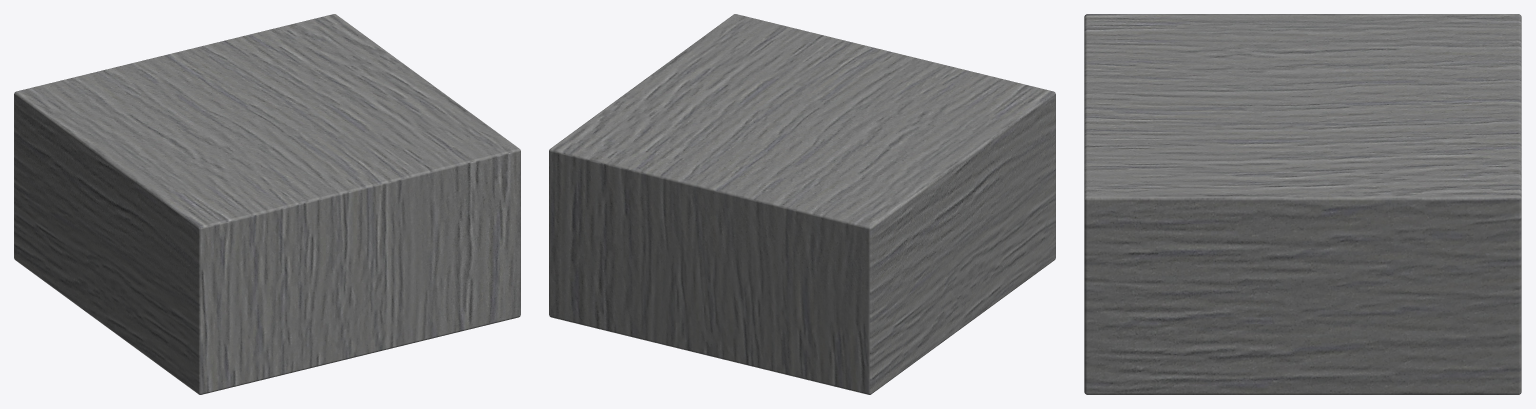
The model's file is PlatformBlock001.obj.
The picture shows the model from 3 angles, left to right: view 1: azimuth 30°, elevation 25°; view 2: azimuth 150°, elevation 25°; view 3: azimuth 270°, elevation 25°; orthographic projection. The views are drawn at different scales.
Parts seen in each view (by area): view 1: pCube1; view 2: pCube1; view 3: pCube1.
Part boxes in pixels (x1,y1,x2,y2): pCube1: (14, 14, 520, 394); pCube1: (549, 14, 1055, 394); pCube1: (1084, 14, 1521, 394).
Size of the model in its own units: 400 by 200 by 400.
2 materials, 2 textured.
